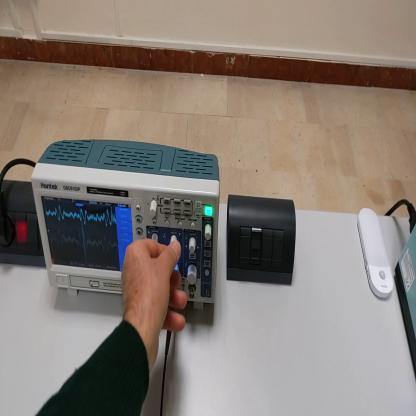hand: (121, 237, 186, 362)
oscilloscope: (32, 139, 222, 310)
socket: (3, 180, 41, 253)
welder station: (396, 224, 416, 379)
